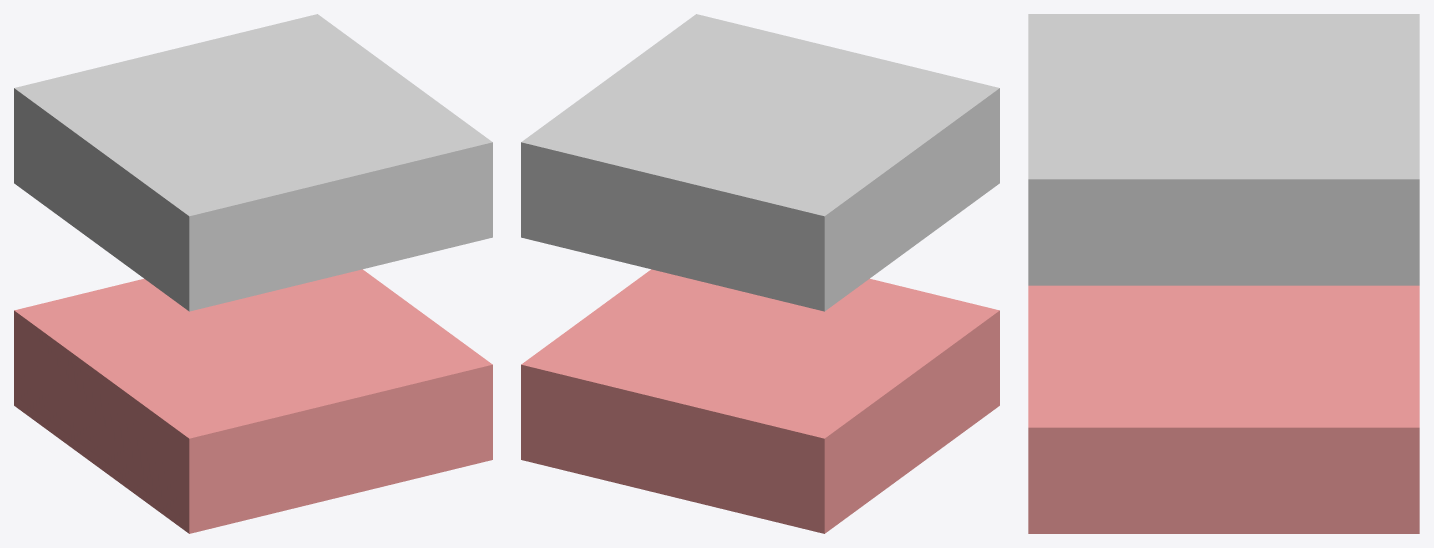
File: board.glb
The picture shows the model from 3 angles, left to right: view 1: azimuth 30°, elevation 25°; view 2: azimuth 150°, elevation 25°; view 3: azimuth 270°, elevation 25°; orthographic projection. The views are drawn at different scales.
Visible parts, largest first — view 1: Copper_Net1_Contour0 (×2); view 2: Copper_Net1_Contour0 (×2); view 3: Copper_Net1_Contour0 (×2).
Part boxes in pixels (<box>): Copper_Net1_Contour0 (×2): <box>14,14,492,533</box>; Copper_Net1_Contour0 (×2): <box>521,14,999,533</box>; Copper_Net1_Contour0 (×2): <box>1028,14,1419,533</box>.
Size of what is drawn, in the model's own units: 1e-06 by 1e-06 by 1e-06.
